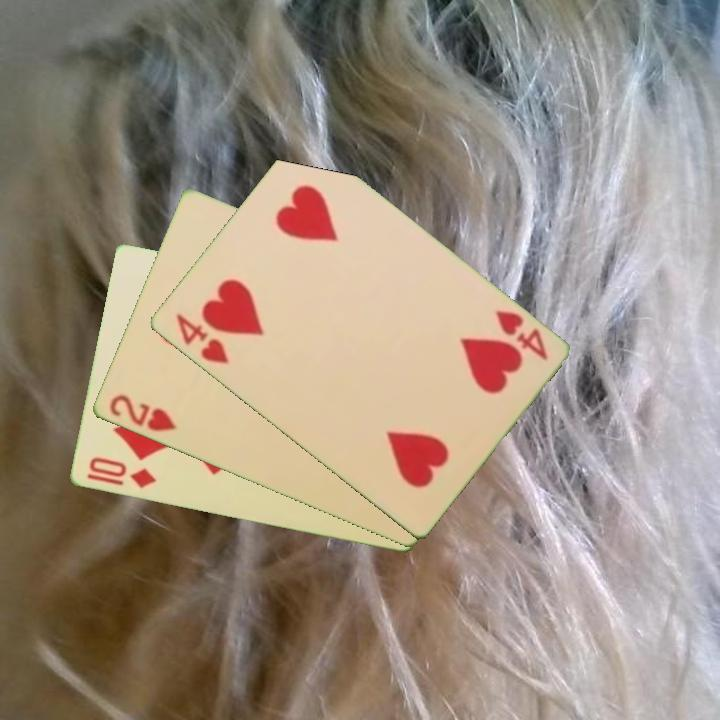10d: (85, 454, 159, 491)
2h: (105, 391, 180, 435)
4h: (491, 306, 551, 364), (171, 310, 232, 367)
